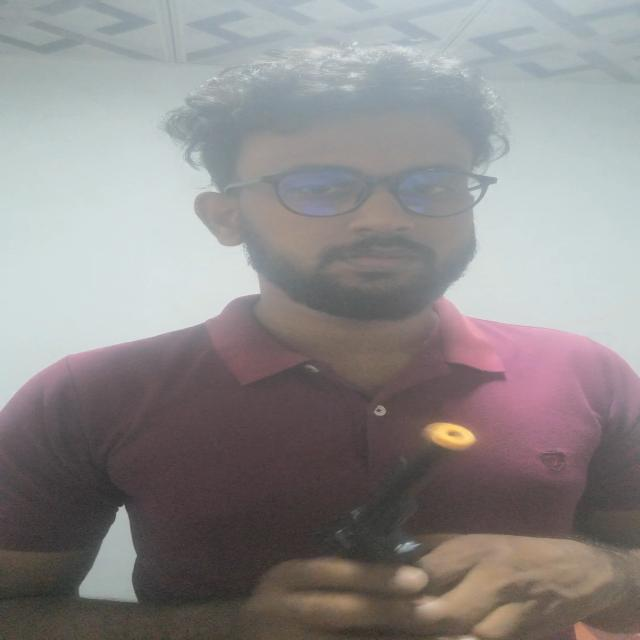Gun_Holder: (234, 415, 547, 635)
Person: (1, 43, 640, 640)
